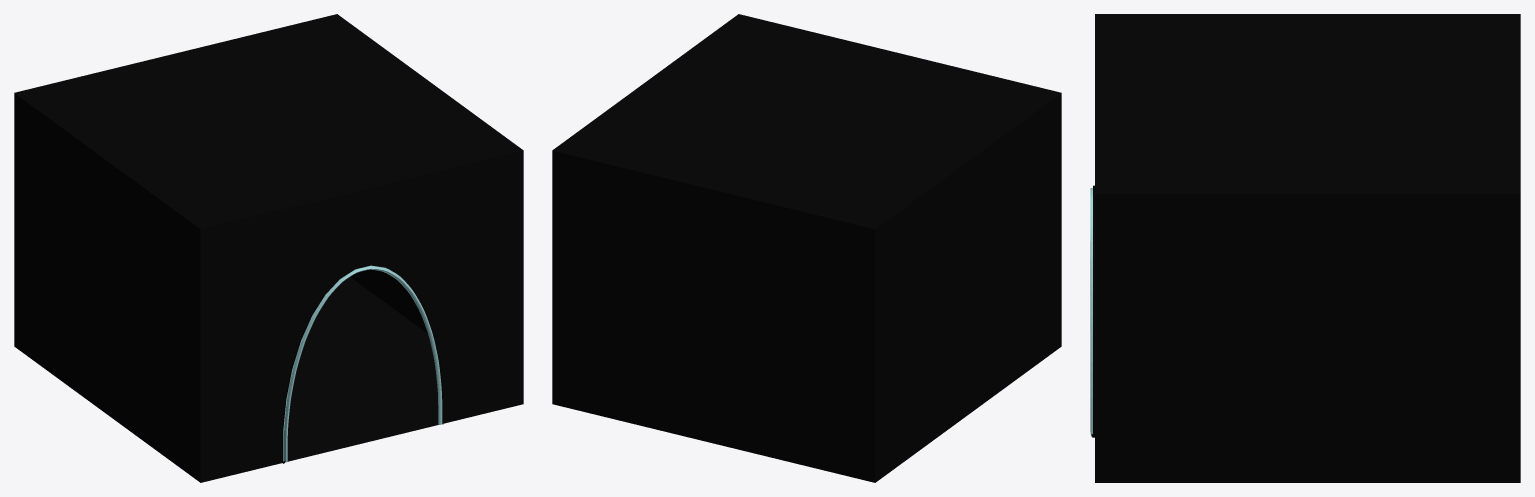
The model's file is hijackingfuture.glb.
The picture shows the model from 3 angles, left to right: view 1: azimuth 30°, elevation 25°; view 2: azimuth 150°, elevation 25°; view 3: azimuth 270°, elevation 25°; orthographic projection. The views are drawn at different scales.
Parts seen in each view (by area): view 1: clip, clip.002; view 2: clip; view 3: clip, clip.002.
Part boxes in pixels (x1,y1,x2,y2): clip: (14, 14, 523, 482); clip.002: (283, 265, 442, 462); clip: (552, 14, 1061, 482); clip: (1091, 14, 1520, 482); clip.002: (1090, 188, 1092, 434).
Size of the model in its own units: 2.9 by 2.18 by 2.94.
Materials: 8 (7 with a texture image).
